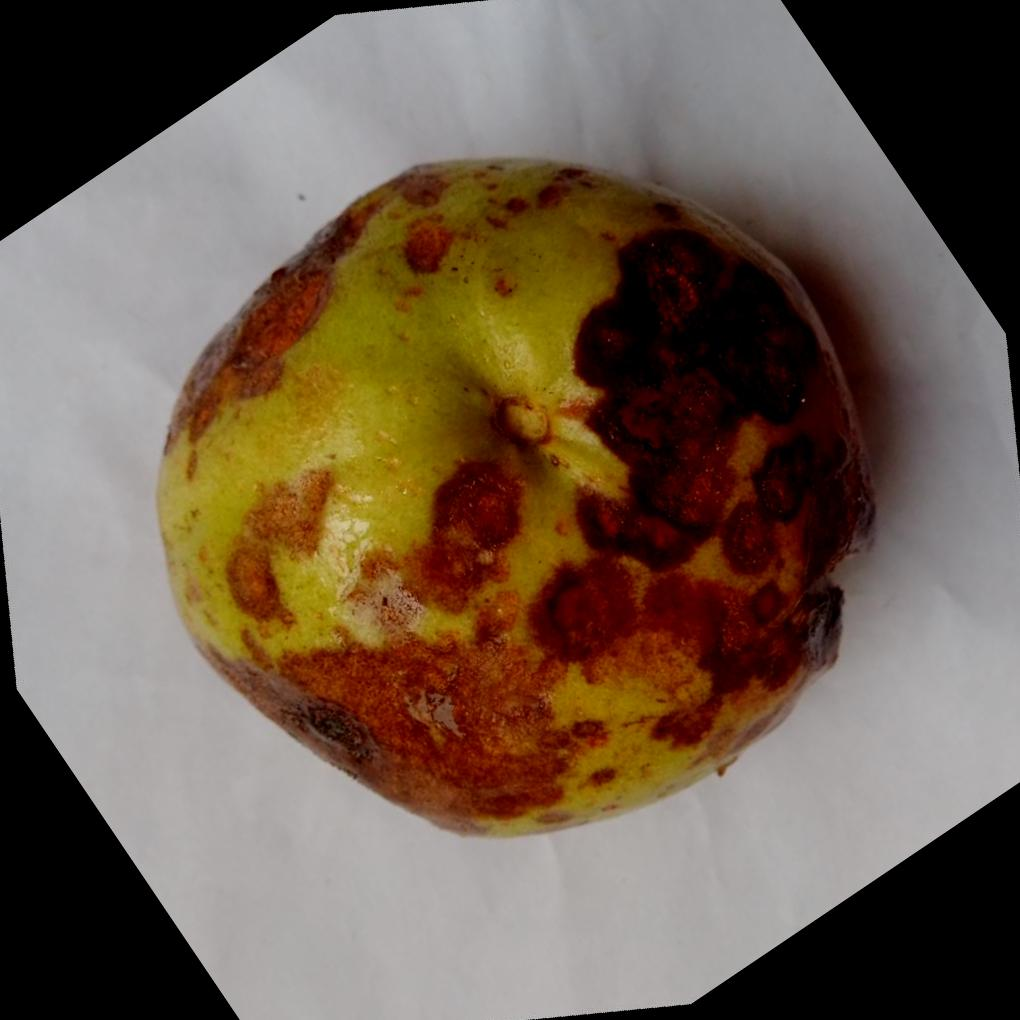FreshOrange: (150, 150, 877, 838)
